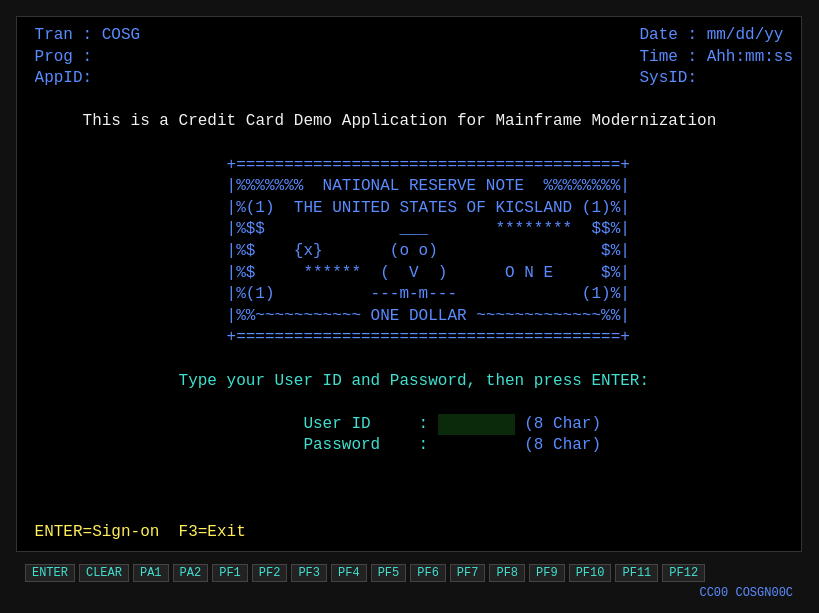
App (pseudo-conversational flow) › stays on the same screen and shows ERRMSG when nextScreen is null
Click the button "ENTER": (50, 573) [25,564,75,582]
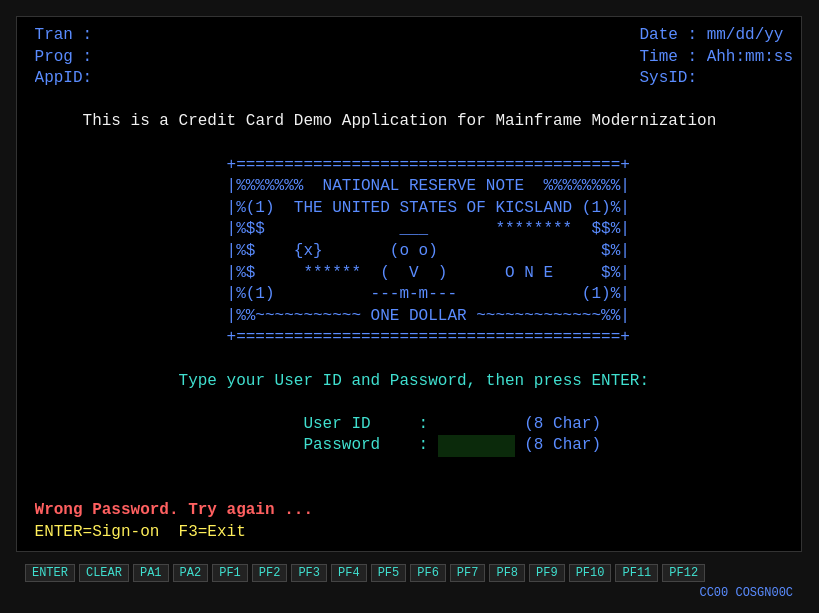
Result: the text "Wrong Password. Try again ..." is shown at [34,501,313,519]
